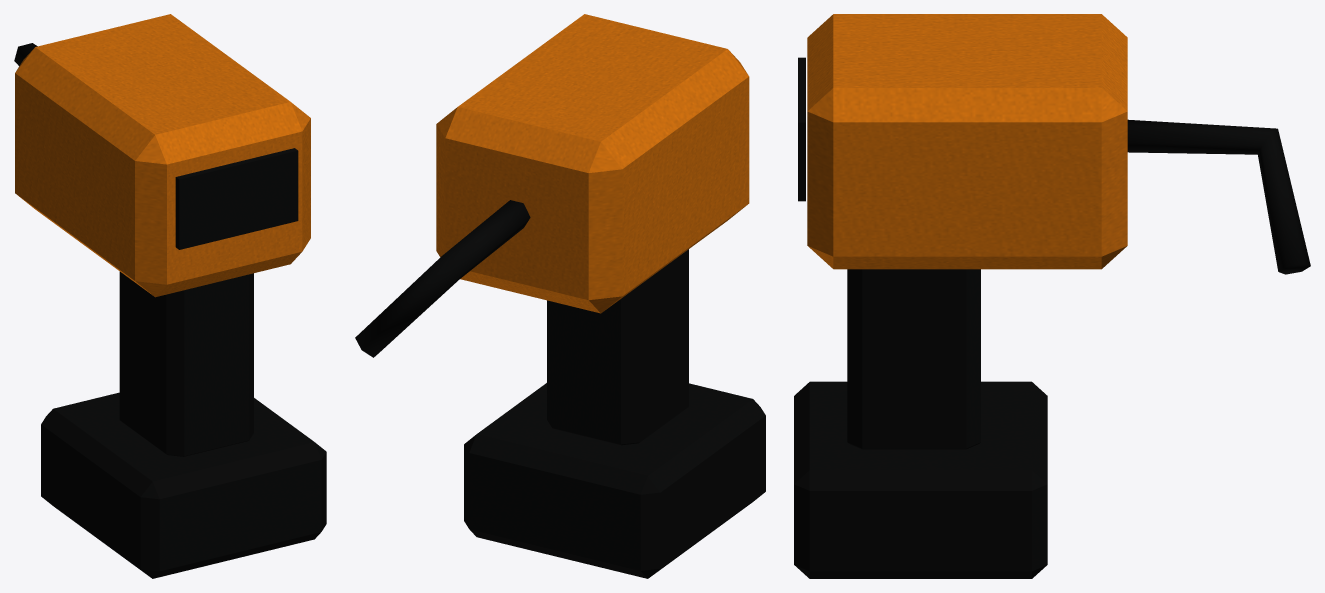
Rendered from ElectricInflator.gltf.
The picture shows the model from 3 angles, left to right: view 1: azimuth 30°, elevation 25°; view 2: azimuth 150°, elevation 25°; view 3: azimuth 270°, elevation 25°; orthographic projection. The views are drawn at different scales.
Visible parts, largest first — view 1: ElectricInflator__Body, Blank digital display; view 2: ElectricInflator__Body; view 3: ElectricInflator__Body, Blank digital display.
Part boxes in pixels (<box>): ElectricInflator__Body: <box>14,14,326,578</box>; Blank digital display: <box>175,148,298,249</box>; ElectricInflator__Body: <box>355,14,765,578</box>; ElectricInflator__Body: <box>794,14,1310,578</box>; Blank digital display: <box>798,57,805,201</box>.
Bounding box in the file's own units: 0.1008 × 0.224 × 0.2168.
Materials: 1 (1 with a texture image).
